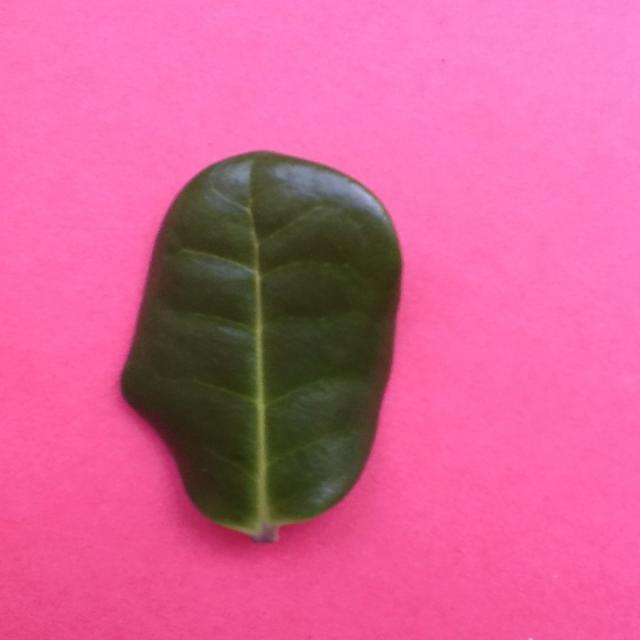foliage: (116, 145, 412, 552)
